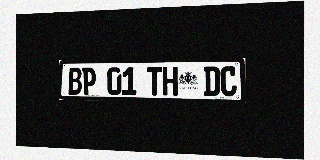0: (107, 67, 121, 95)
1: (122, 67, 136, 95)
B: (68, 67, 82, 95)
C: (220, 66, 237, 96)
D: (204, 66, 220, 96)
H: (163, 67, 178, 96)
P: (82, 67, 96, 95)
T: (147, 67, 162, 96)
